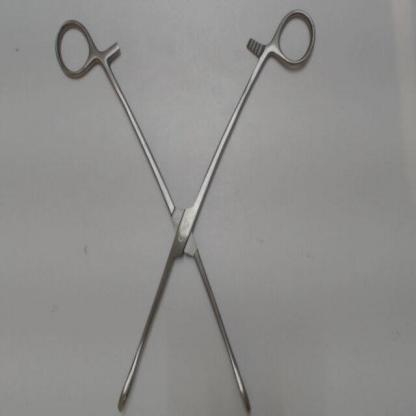Sponge Forceps: (46, 2, 320, 413)
